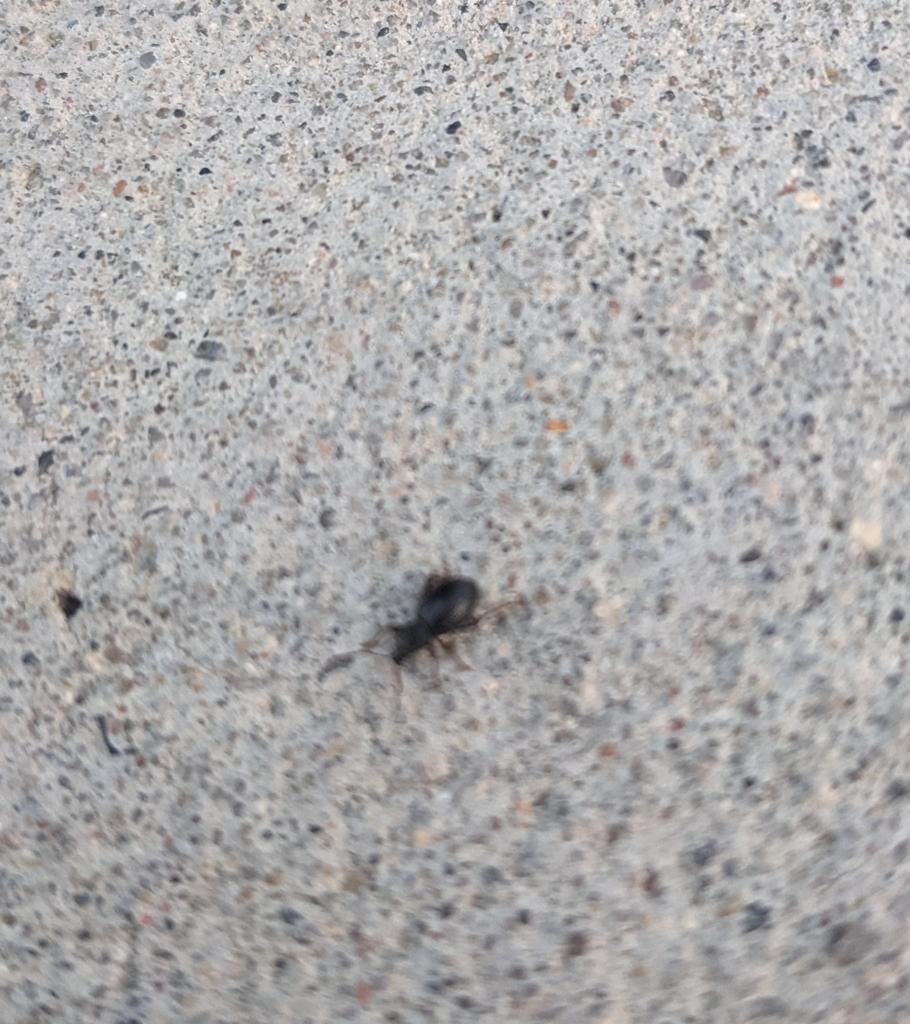weevils: (350, 537, 544, 731)
